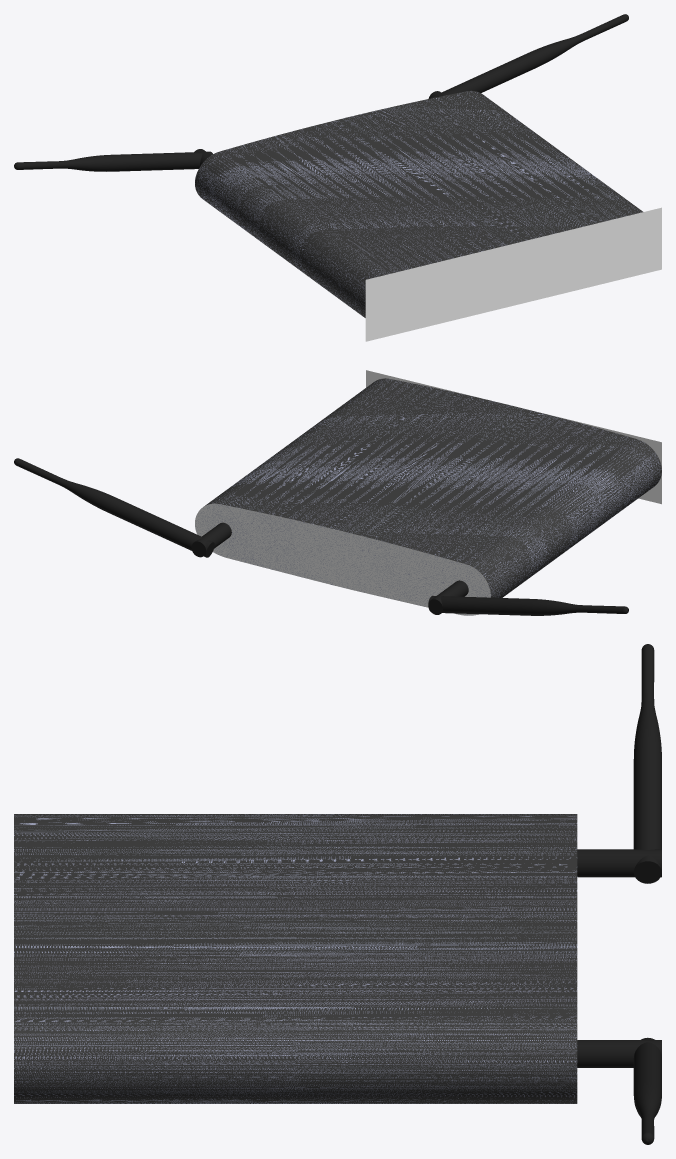
The model's file is CiscoRouter.dae.
The picture shows the model from 3 angles, top to bottom: view 1: azimuth 30°, elevation 25°; view 2: azimuth 150°, elevation 25°; view 3: azimuth 270°, elevation 25°; orthographic projection. The views are drawn at different scales.
Parts seen in each view (by area): view 1: group_2, image_0, group_4, group_3; view 2: group_2 (×2), group_3, group_4, image_0, group_0, group_1; view 3: group_2, group_4, group_3, group_1, group_0.
Boxes of the visible parts, bbox=[...] form: group_2: bbox=[195, 90, 642, 317]; image_0: bbox=[365, 207, 661, 341]; group_4: bbox=[14, 151, 212, 171]; group_3: bbox=[429, 14, 628, 98]; group_2 (×2): bbox=[195, 378, 661, 615]; group_3: bbox=[14, 458, 214, 557]; group_4: bbox=[428, 595, 628, 615]; image_0: bbox=[366, 370, 661, 504]; group_0: bbox=[191, 522, 231, 557]; group_1: bbox=[428, 580, 468, 614]; group_2: bbox=[14, 814, 577, 1103]; group_4: bbox=[633, 644, 661, 883]; group_3: bbox=[633, 1037, 661, 1144]; group_1: bbox=[577, 849, 661, 877]; group_0: bbox=[577, 1040, 661, 1067].
Bounding box in the file's own units: 20.73 × 11.5 × 2.46.
